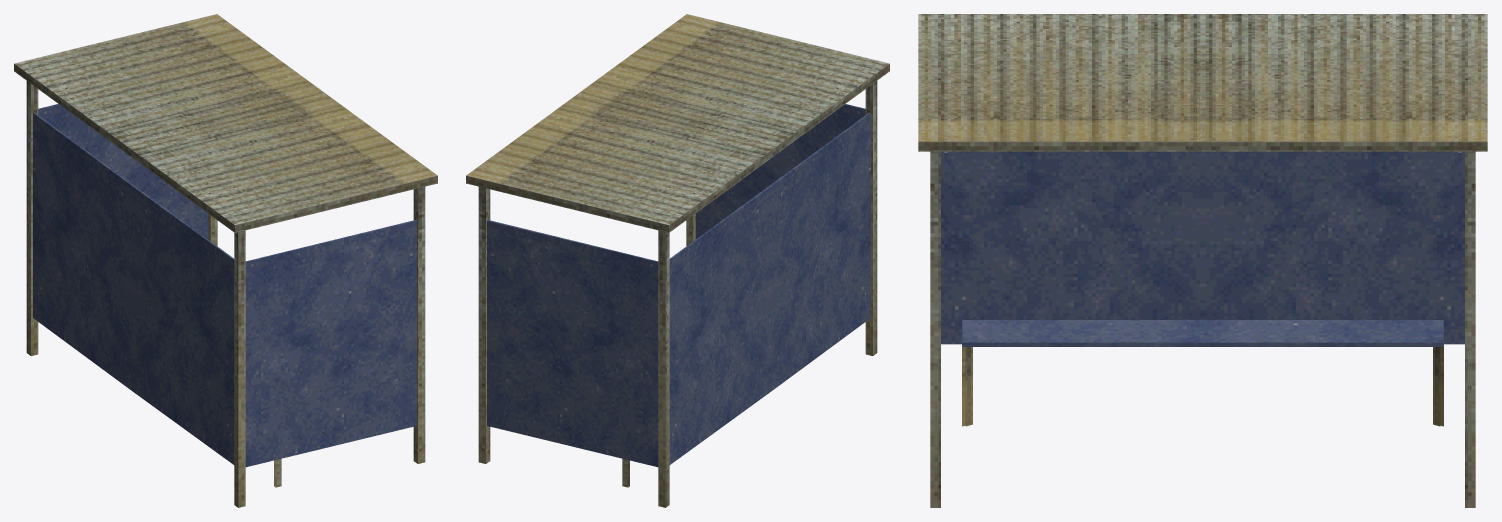
File: busstop_clean_bench.glb
3 renders of one model, left to right at view 1: azimuth 30°, elevation 25°; view 2: azimuth 150°, elevation 25°; view 3: azimuth 270°, elevation 25°, orthographic. The views are drawn at different scales.
Parts seen in each view (by area): view 1: busstop_clean_bench; view 2: busstop_clean_bench; view 3: busstop_clean_bench.
Boxes of the visible parts, x1,y1,x2,y2 form: busstop_clean_bench: (14, 14, 437, 507); busstop_clean_bench: (466, 14, 889, 507); busstop_clean_bench: (918, 14, 1487, 507).
Bounding box in the file's own units: 2.26 × 3.08 × 4.26.
Materials: 1 (1 with a texture image).
